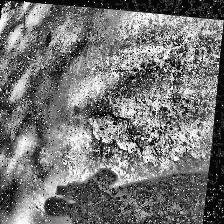pothole: (85, 109, 144, 152)
